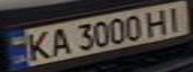0: (124, 11, 148, 42), (90, 18, 112, 47), (109, 16, 130, 45)
3: (72, 20, 96, 52)
A: (45, 25, 72, 57)
H: (142, 7, 172, 37)
I: (160, 3, 190, 33)
K: (21, 29, 54, 62)
